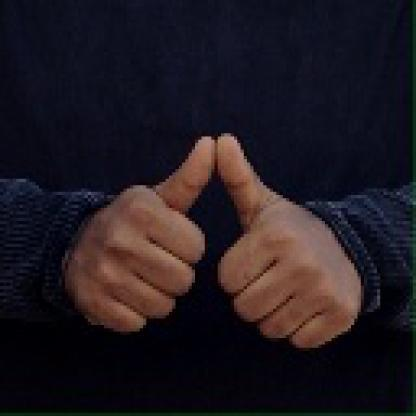A: (74, 130, 368, 348)
